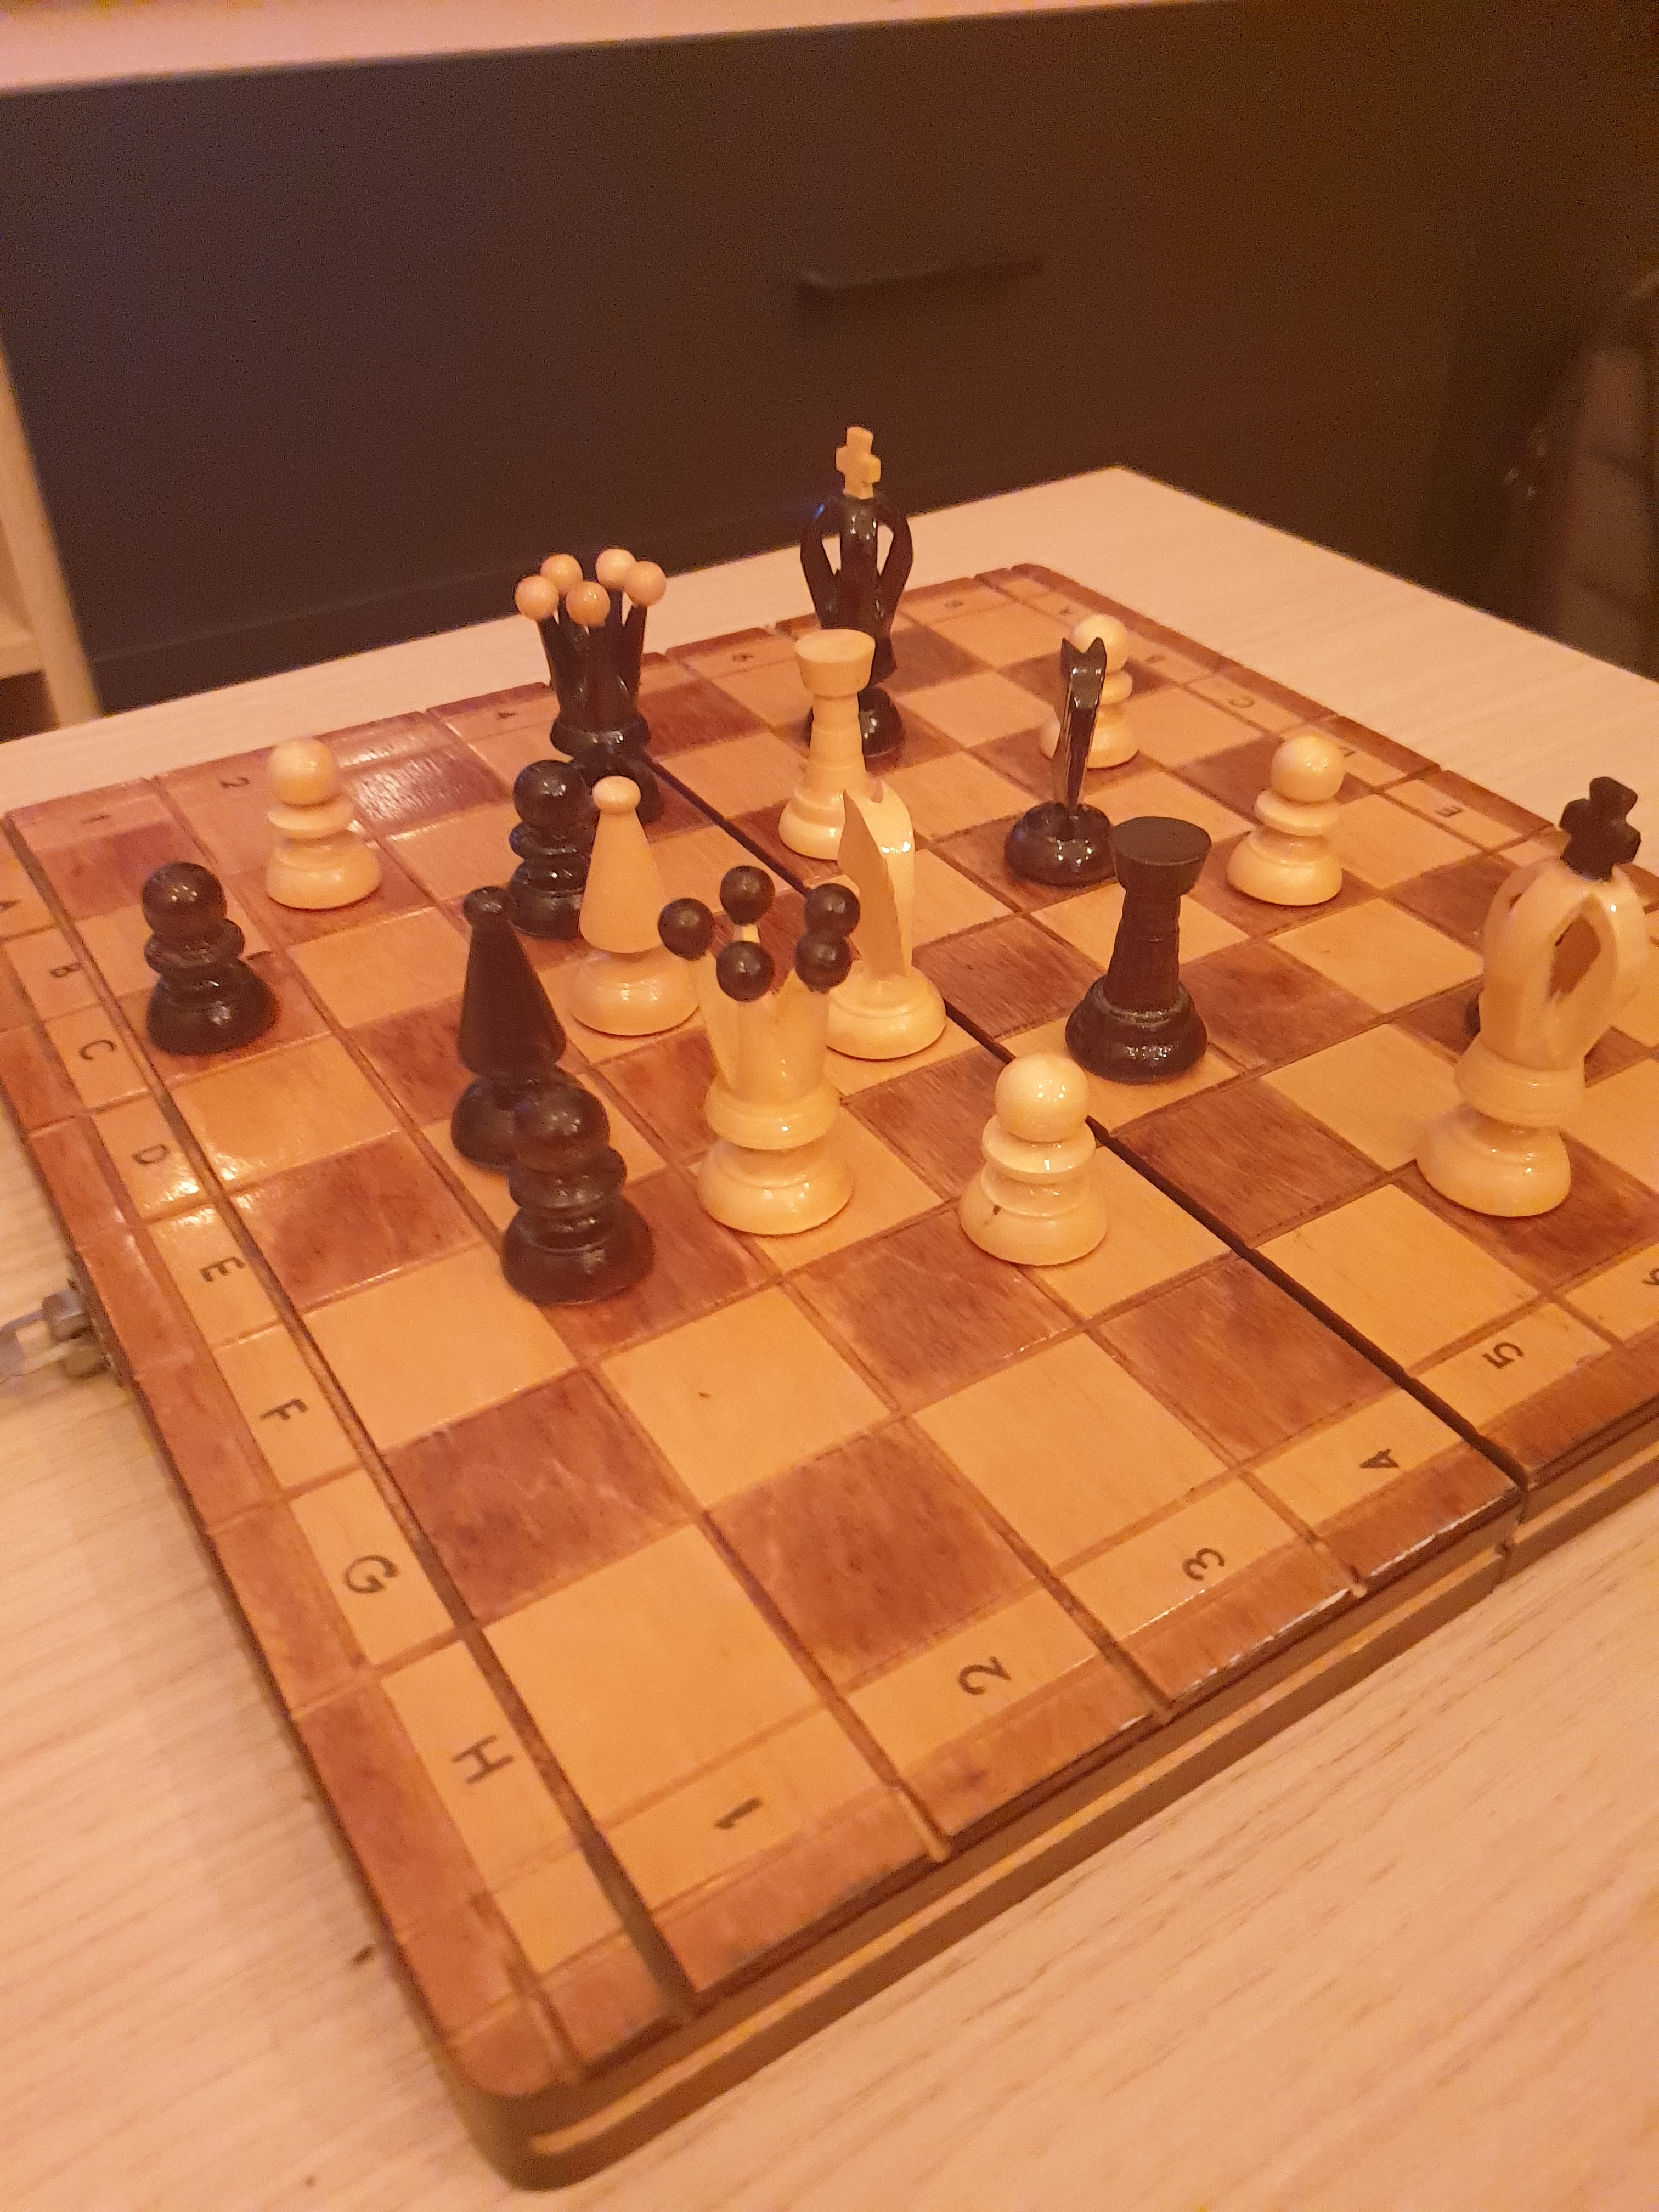bbishop: (429, 873, 603, 1190)
bking: (784, 409, 927, 770)
bknight: (995, 634, 1134, 900)
bpawn: (479, 1073, 671, 1324), (124, 848, 293, 1073), (491, 745, 613, 946)
bqueen: (507, 533, 685, 843)
brook: (1053, 799, 1230, 1101)
wbishop: (551, 742, 714, 1059)
wking: (1406, 761, 1659, 1247)
wknight: (795, 770, 957, 1075)
wpawn: (951, 1042, 1124, 1287), (1206, 707, 1366, 923), (254, 728, 394, 928), (1028, 590, 1161, 775)
wqueen: (650, 843, 884, 1252)
wrook: (765, 615, 906, 873)
